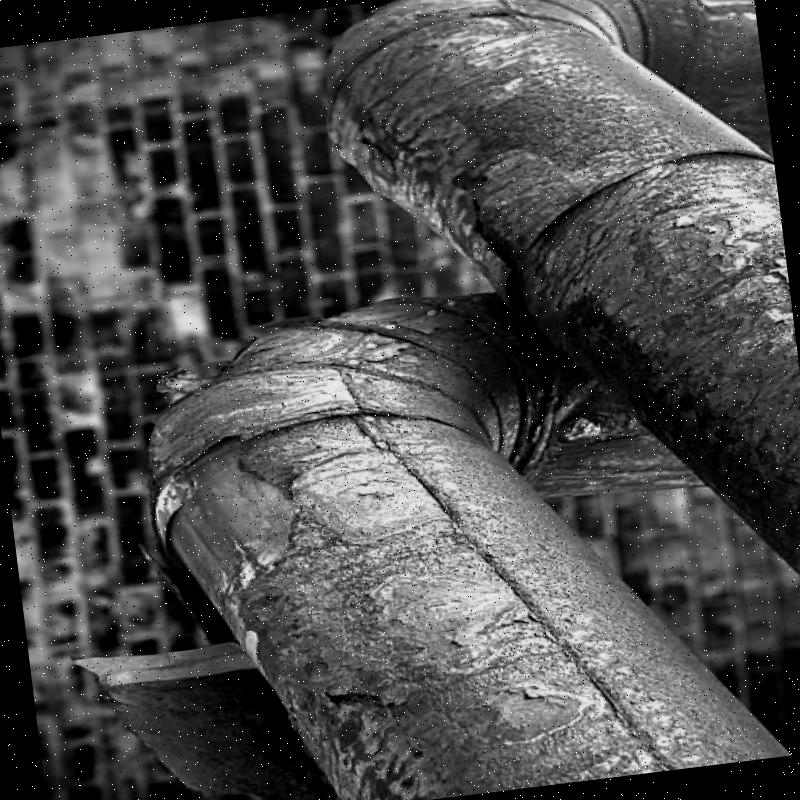corrosion: (47, 0, 800, 800)
